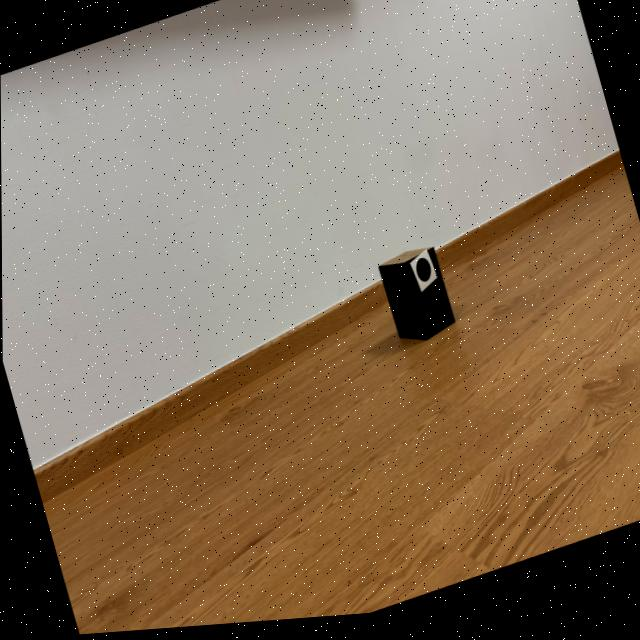CIRCLE: (415, 263, 431, 288)
